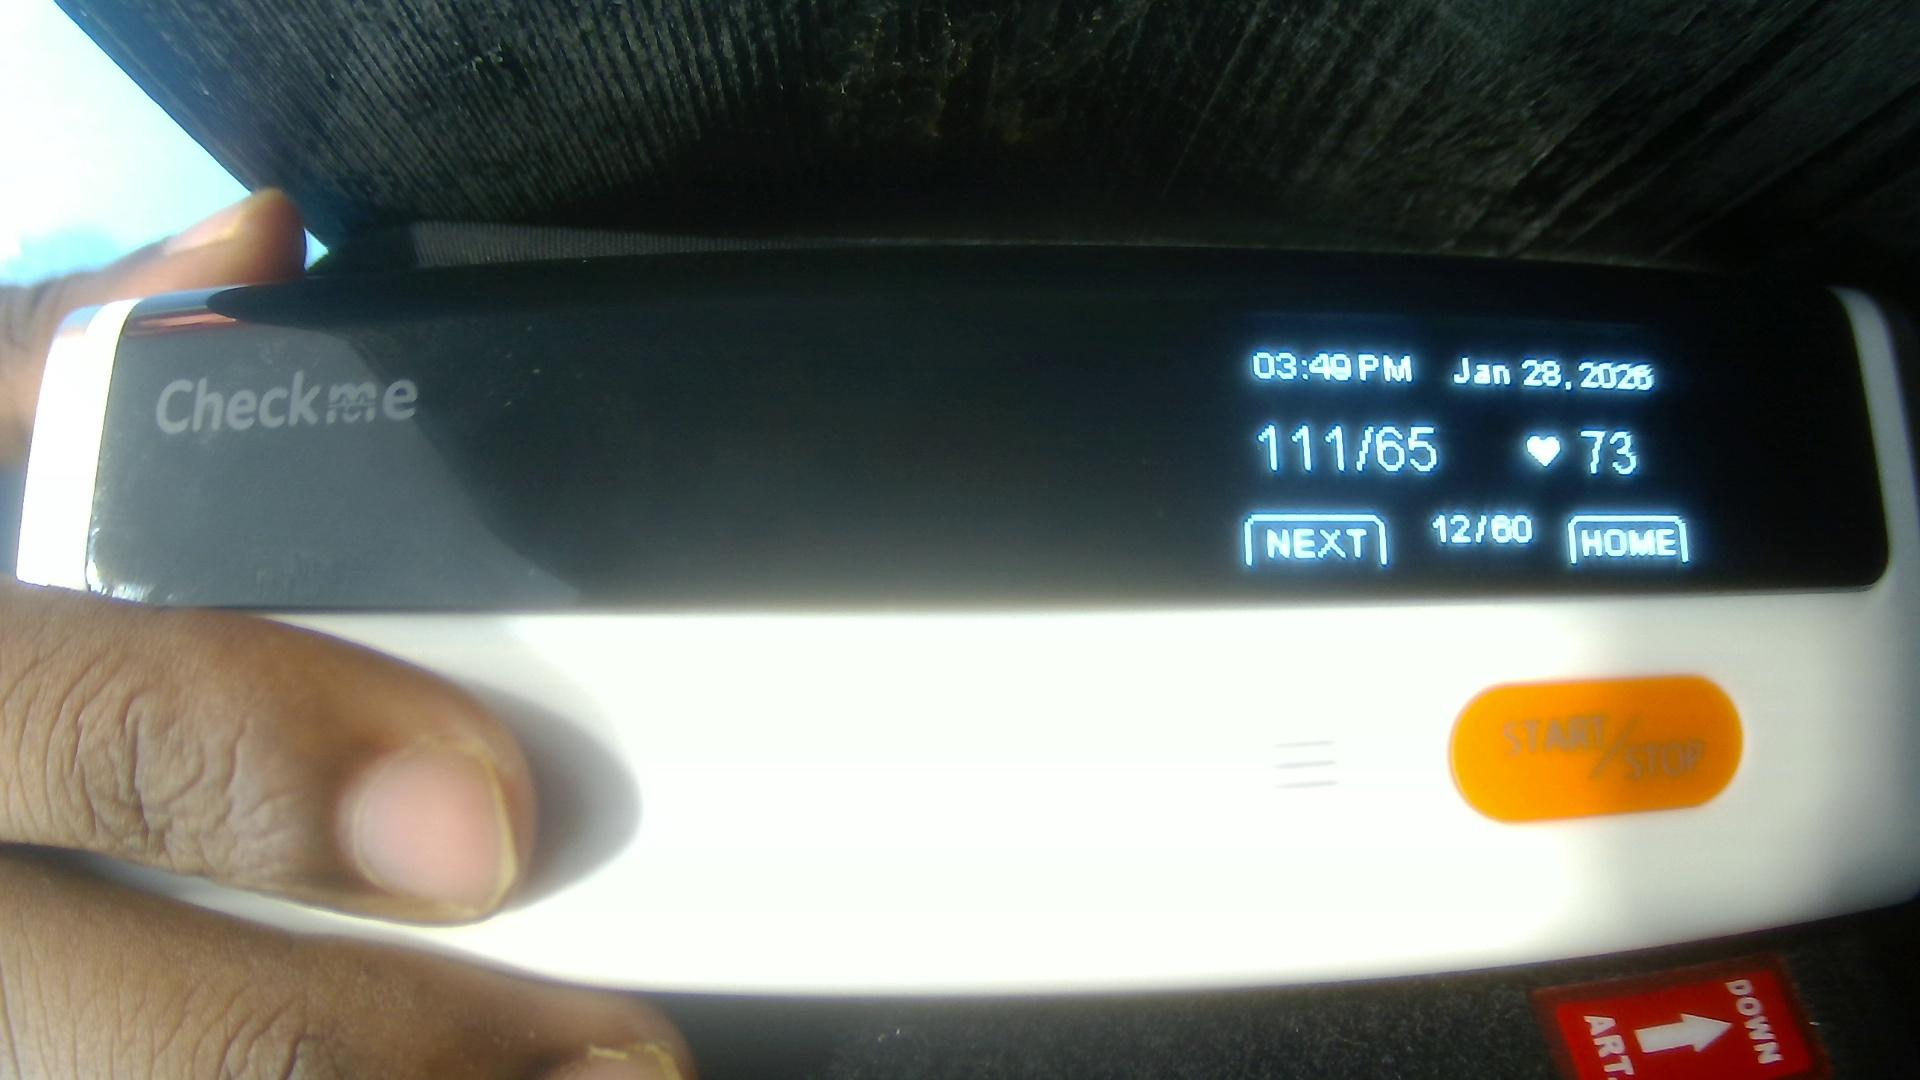DISPLAY: (103, 285, 1880, 588)
